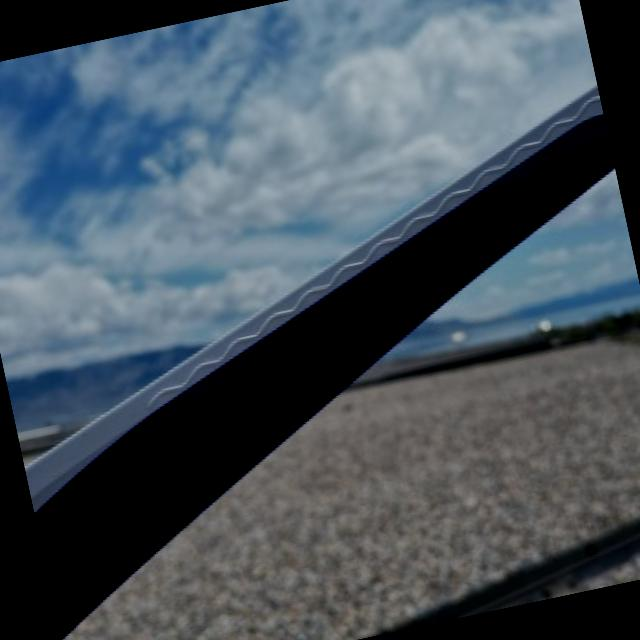healthy: (26, 85, 614, 634)
